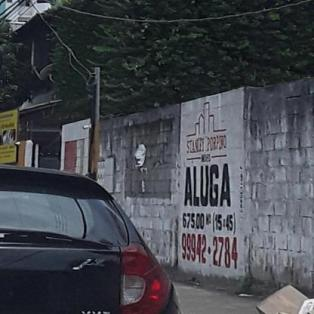Poste: (0, 0, 22, 161)
